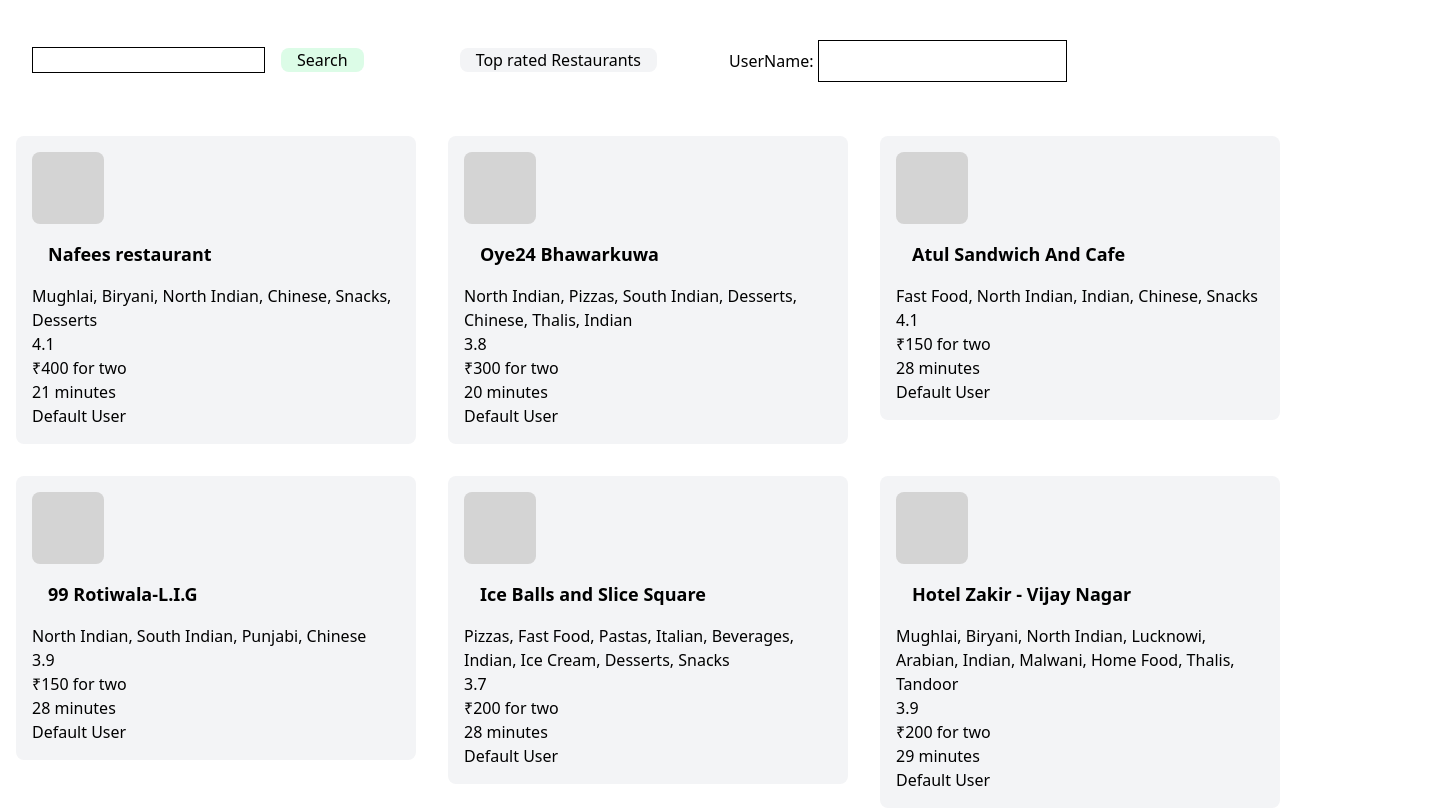
should filter the top rated restaurant
Click the button "Top rated Restaurants".
click(558, 60)  # box [460,48,657,72]
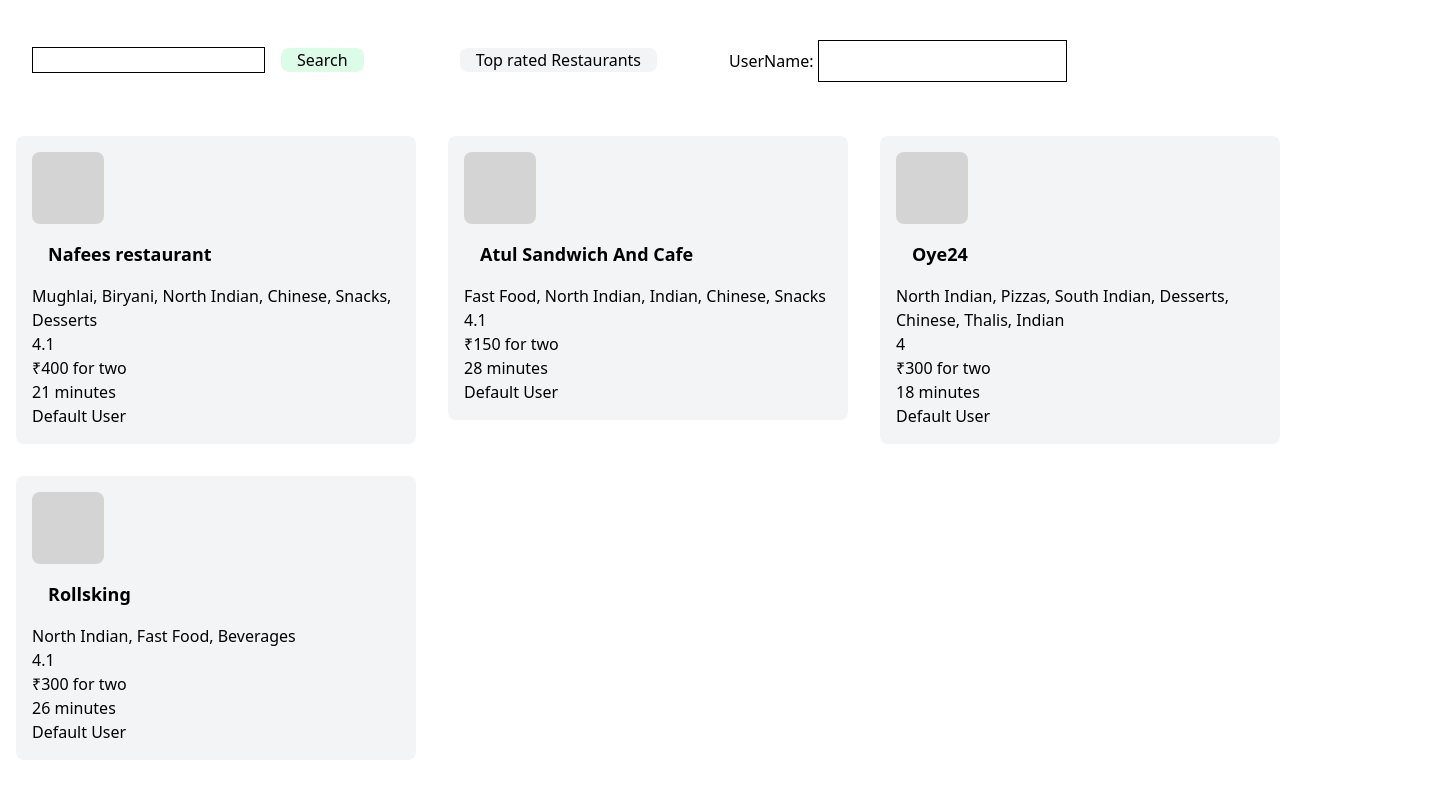
Now the number of elements with test id "resCard" is 4, box [16,136,416,444]; [448,136,848,420]; [880,136,1280,444]; [16,476,416,760]
